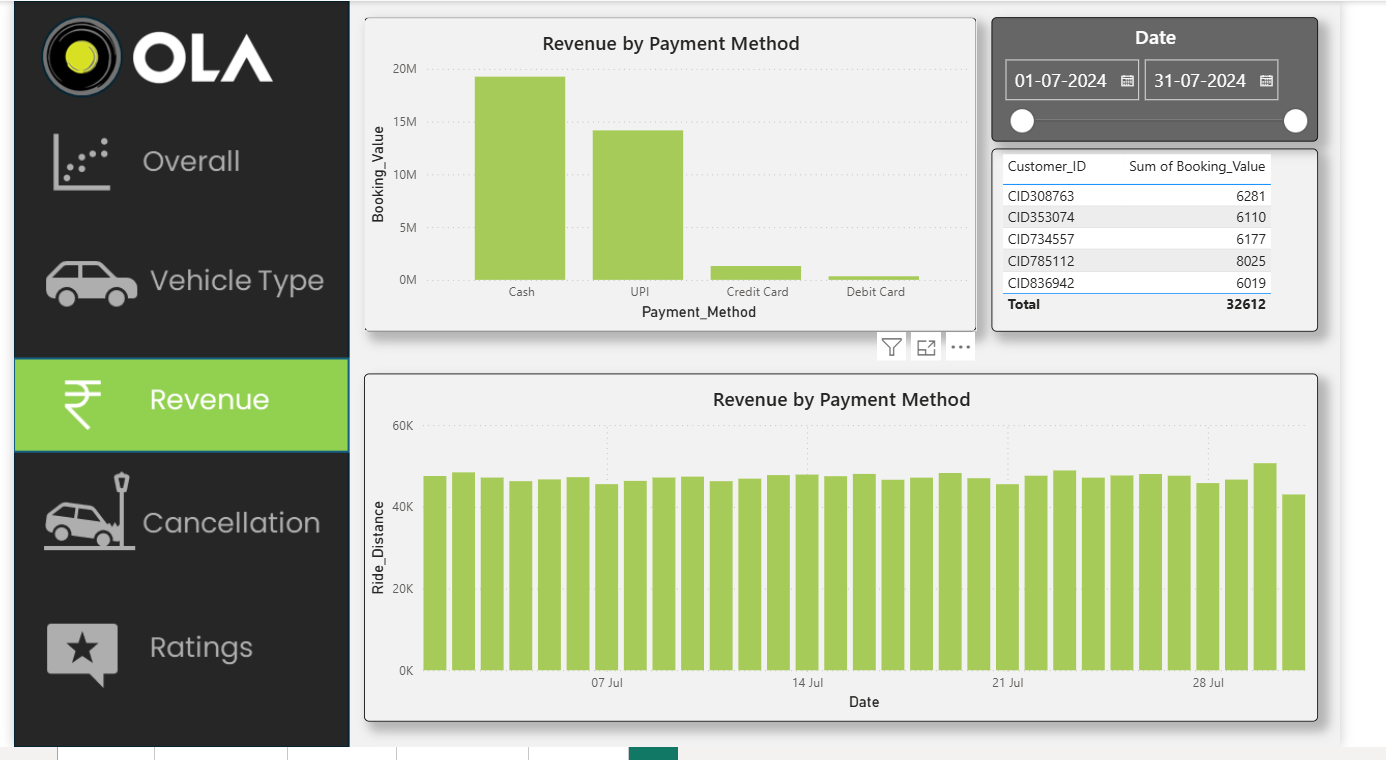

Layout of this report page (visuals, bound fields, positions):
{"tool":"powerbi","page":{"name":"Revenue","canvas":[1280,720],"ordinal":2},"visuals":[{"type":"actionButton","box":[0,225.2,324.5,93.1],"z":0},{"type":"actionButton","box":[0,452.2,324.5,93.1],"z":1000},{"type":"actionButton","box":[0,587,324.5,93.1],"z":2000},{"type":"actionButton","box":[0,110,324.5,93.1],"z":3000},{"type":"columnChart","title":"Revenue by Payment Method","fields":{"Y":["Sum(July.Booking_Value)"],"Category":["July.Payment_Method"]},"box":[337.6,15.1,591.4,303.3],"z":4000},{"type":"columnChart","title":"Revenue by Payment Method","fields":{"Y":["Sum(July.Ride_Distance)"],"Category":["July.Date"]},"box":[337.6,359.5,920.8,336.2],"z":5000},{"type":"slicer","title":"Date","fields":{"Values":["July.Date"]},"box":[943.5,15.6,315.1,119.6],"z":6000},{"type":"tableEx","fields":{"Values":["July.Customer_ID","Sum(July.Booking_Value)"]},"box":[943.5,142,315.1,177],"z":7000}]}

Visuals, with their boxes on the page's 1280x720 design canvas (x1, y1, x2, y2). These are canvas units, not pixel positions in the 1386x760 screenshot, which may show the page scaled, cropped or inside an application window:
actionButton: box=[0, 225, 324, 318]
actionButton: box=[0, 452, 324, 545]
actionButton: box=[0, 587, 324, 680]
actionButton: box=[0, 110, 324, 203]
"Revenue by Payment Method" columnChart: box=[338, 15, 929, 318]
"Revenue by Payment Method" columnChart: box=[338, 360, 1258, 696]
"Date" slicer: box=[944, 16, 1259, 135]
tableEx - July.Customer_ID x Sum(July.Booking_Value): box=[944, 142, 1259, 319]
